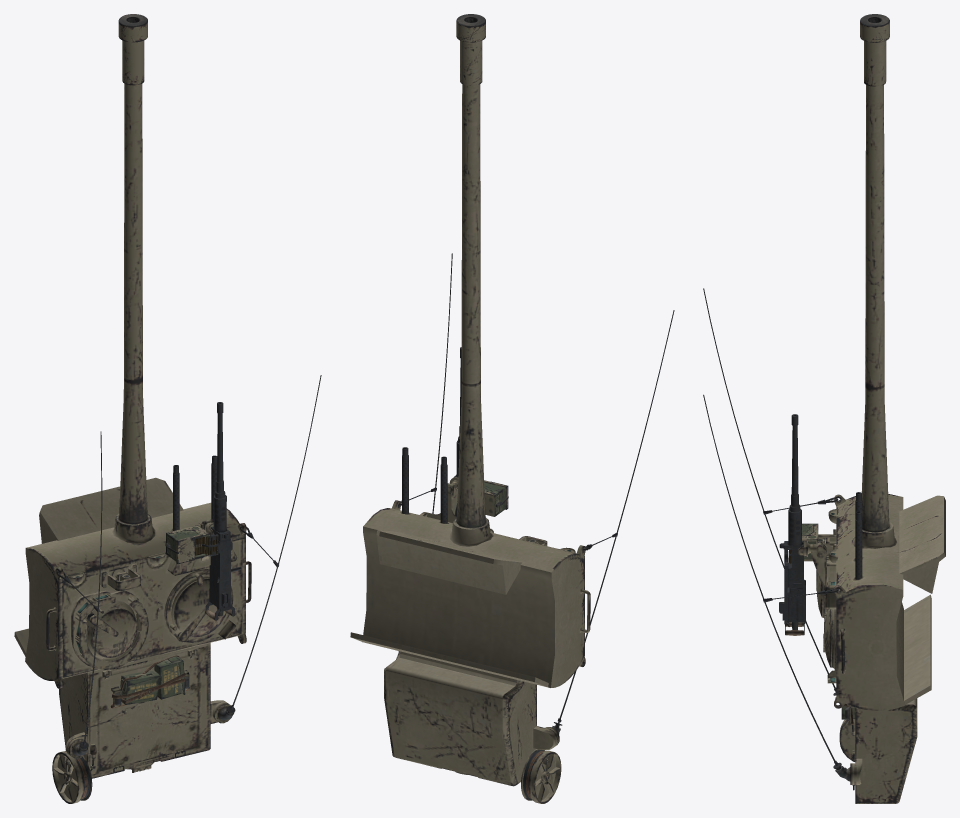
The model's file is Gun_01.glb.
3 renders of one model, left to right at view 1: azimuth 30°, elevation 25°; view 2: azimuth 150°, elevation 25°; view 3: azimuth 270°, elevation 25°, orthographic.
Parts seen in each view (by area): view 1: set_0_group_0; view 2: set_0_group_0; view 3: set_0_group_0.
Part boxes in pixels (x1,y1,x2,y2): set_0_group_0: (14, 14, 321, 803); set_0_group_0: (350, 14, 674, 803); set_0_group_0: (703, 14, 945, 803).
Size of the model in its own units: 1.79 by 5.92 by 1.68.
Materials: 1 (1 with a texture image).
